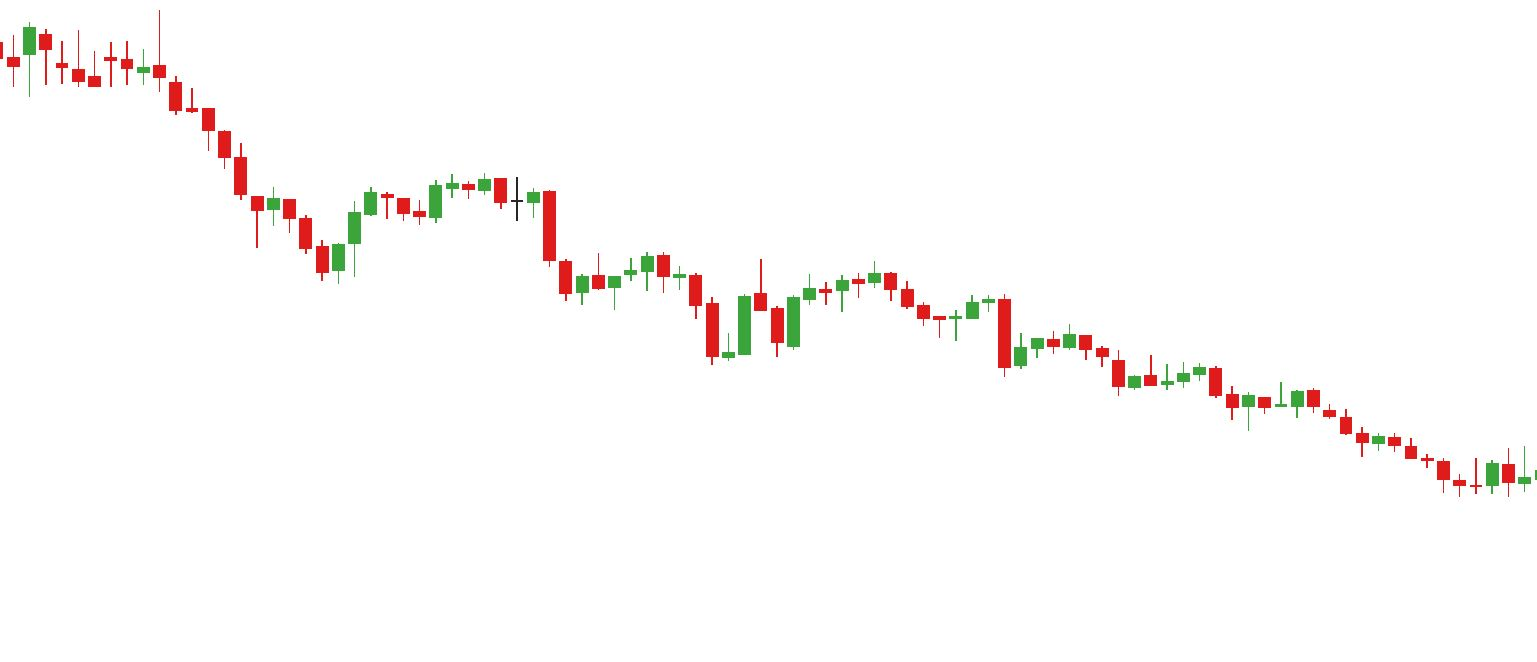sell: (364, 172, 475, 217)
